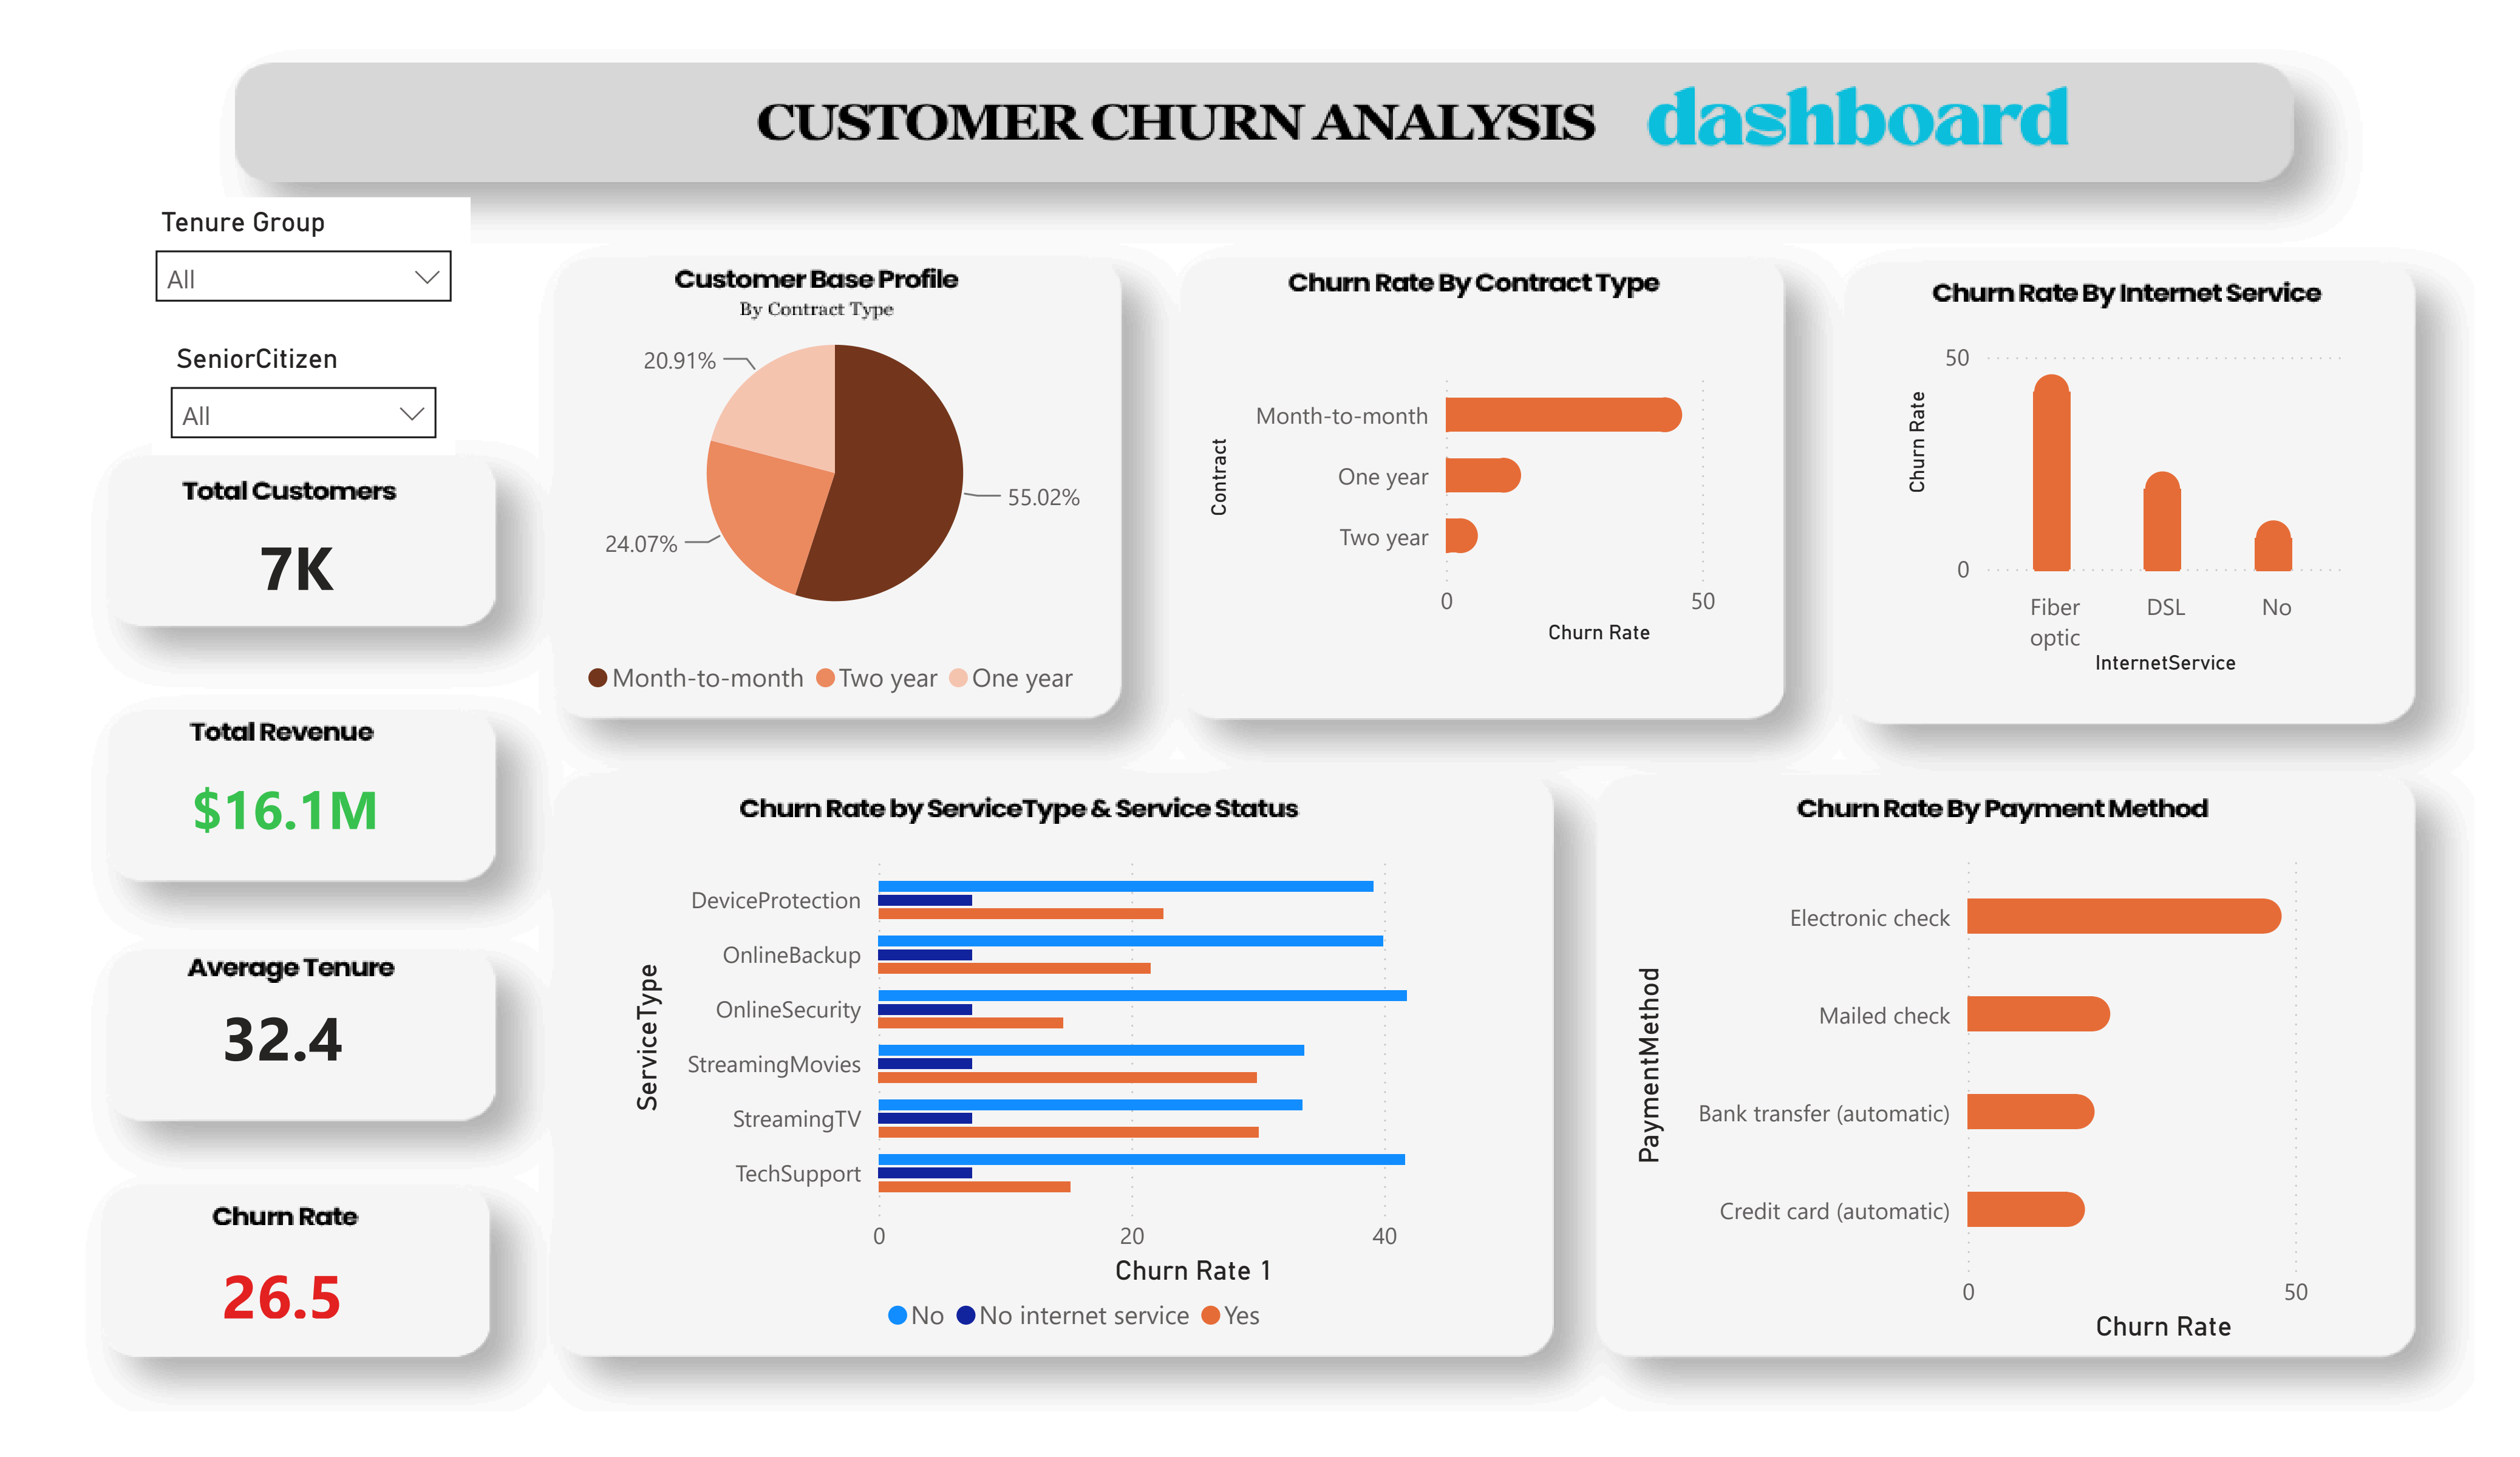

This screenshot's page, from the dashboard's own definition file:
{"tool":"powerbi","page":{"name":"Page 3","canvas":[1280,720],"ordinal":0},"visuals":[{"type":"cardVisual","fields":{"Data":["Telco Customer Churn.Total Customers"]},"box":[48,240,168,64],"z":0},{"type":"cardVisual","fields":{"Data":["Sum(Telco Customer Churn.TotalCharges)"]},"box":[48,368,160,64],"z":1000},{"type":"cardVisual","fields":{"Data":["Avg(Telco Customer Churn.tenure)"]},"box":[64,480,128,80],"z":2000},{"type":"cardVisual","fields":{"Data":["Telco Customer Churn.Churn Rate"]},"box":[64,624,144,64],"z":3000},{"type":"pieChart","fields":{"Category":["Telco Customer Churn.Contract"],"Series":["Telco Customer Churn.Contract"],"Y":["Telco Customer Churn.Total Customers"]},"box":[280,128,272,224],"z":4000},{"type":"clusteredBarChart","fields":{"Category":["Telco Customer Churn.Contract"],"Y":["Telco Customer Churn.Churn Rate"]},"box":[608,160,304,160],"z":5000},{"type":"columnChart","fields":{"Category":["Telco Customer Churn.InternetService"],"Y":["Telco Customer Churn.Churn Rate"]},"box":[976,128,240,208],"z":6000},{"type":"clusteredBarChart","fields":{"Category":["Telco Customer Churn (2).ServiceType"],"Series":["Telco Customer Churn (2).ServiceStatus"],"Y":["Telco Customer Churn (2).Churn Rate 1"]},"box":[304,416,480,272],"z":7000},{"type":"clusteredBarChart","fields":{"Category":["Telco Customer Churn.PaymentMethod"],"Y":["Telco Customer Churn.Churn Rate"]},"box":[832,416,400,272],"z":8000},{"type":"slicer","fields":{"Values":["Telco Customer Churn.Tenure Group"]},"box":[48,80,176,64],"z":8001},{"type":"slicer","fields":{"Values":["Telco Customer Churn.SeniorCitizen"]},"box":[56,152,160,64],"z":8002}]}

Visuals, with their boxes on the page's 1280x720 design canvas (x1, y1, x2, y2). These are canvas units, not pixel positions in the 2520x1457 screenshot, which may show the page scaled, cropped or inside an application window:
cardVisual - Telco Customer Churn.Total Customers: bbox=(48, 240, 216, 304)
cardVisual - Sum(Telco Customer Churn.TotalCharges): bbox=(48, 368, 208, 432)
cardVisual - Avg(Telco Customer Churn.tenure): bbox=(64, 480, 192, 560)
cardVisual - Telco Customer Churn.Churn Rate: bbox=(64, 624, 208, 688)
pieChart - Telco Customer Churn.Contract x Telco Customer Churn.Contract: bbox=(280, 128, 552, 352)
clusteredBarChart - Telco Customer Churn.Contract x Telco Customer Churn.Churn Rate: bbox=(608, 160, 912, 320)
columnChart - Telco Customer Churn.InternetService x Telco Customer Churn.Churn Rate: bbox=(976, 128, 1216, 336)
clusteredBarChart - Telco Customer Churn (2).ServiceType x Telco Customer Churn (2).ServiceStatus: bbox=(304, 416, 784, 688)
clusteredBarChart - Telco Customer Churn.PaymentMethod x Telco Customer Churn.Churn Rate: bbox=(832, 416, 1232, 688)
slicer - Telco Customer Churn.Tenure Group: bbox=(48, 80, 224, 144)
slicer - Telco Customer Churn.SeniorCitizen: bbox=(56, 152, 216, 216)
